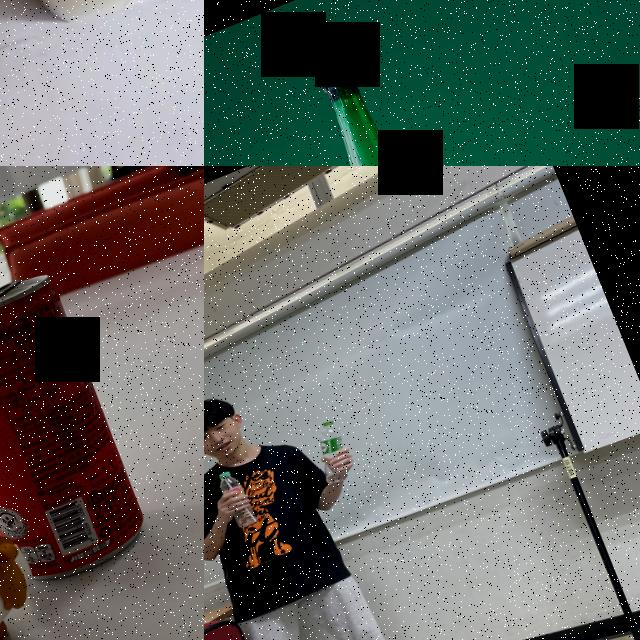bottle: (281, 22, 560, 166), (304, 417, 358, 488), (213, 466, 260, 530)
can: (0, 264, 160, 598)
cup: (0, 0, 182, 51)
